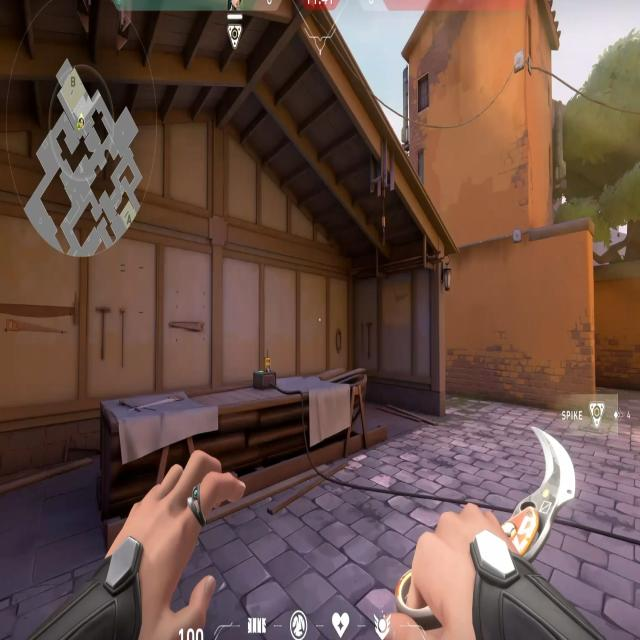B_Garage_Right: (274, 226, 461, 470)
